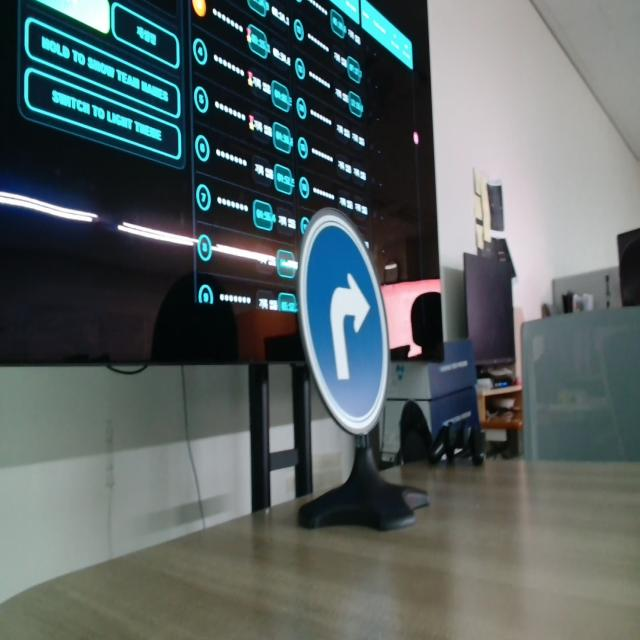right_dierection: (285, 197, 402, 458)
